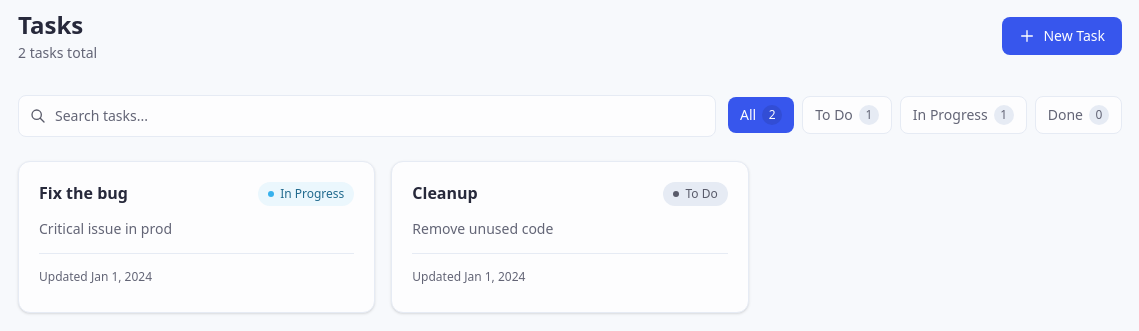
Test: Dashboard › searches tasks by description
Type "unused" into the search field with placeholder "Search tasks..." at (367, 116), box [18,95,716,137]
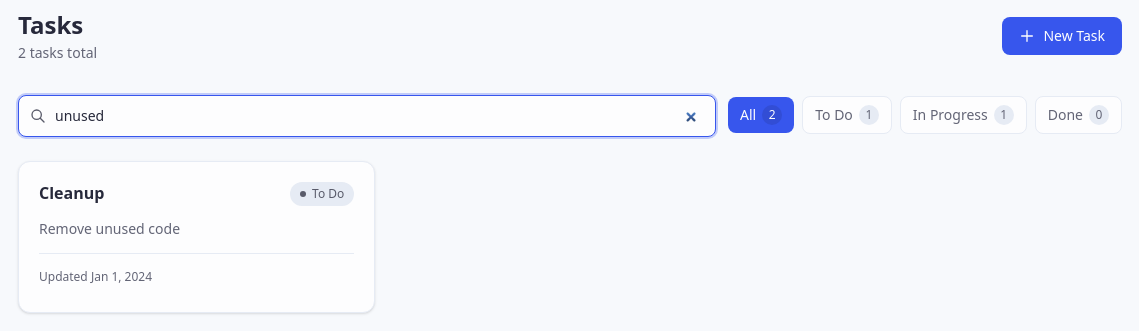
Expected: the heading "Cleanup" is shown, [39,182,104,204]
Expected: the heading "Fix the bug" is gone
